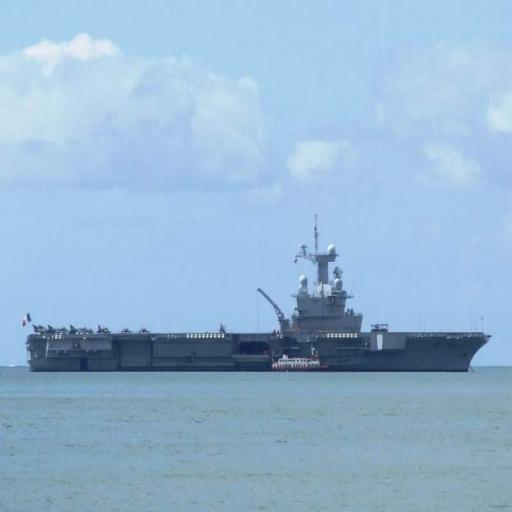Portanaves: (21, 210, 495, 376)
